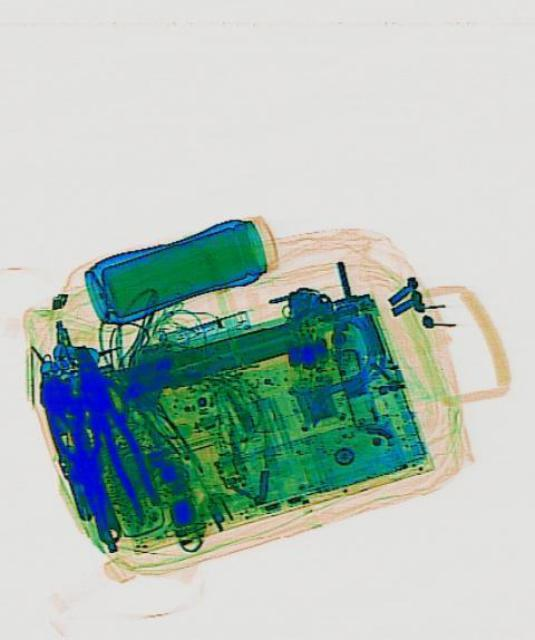Pliers: (65, 338, 160, 516)
